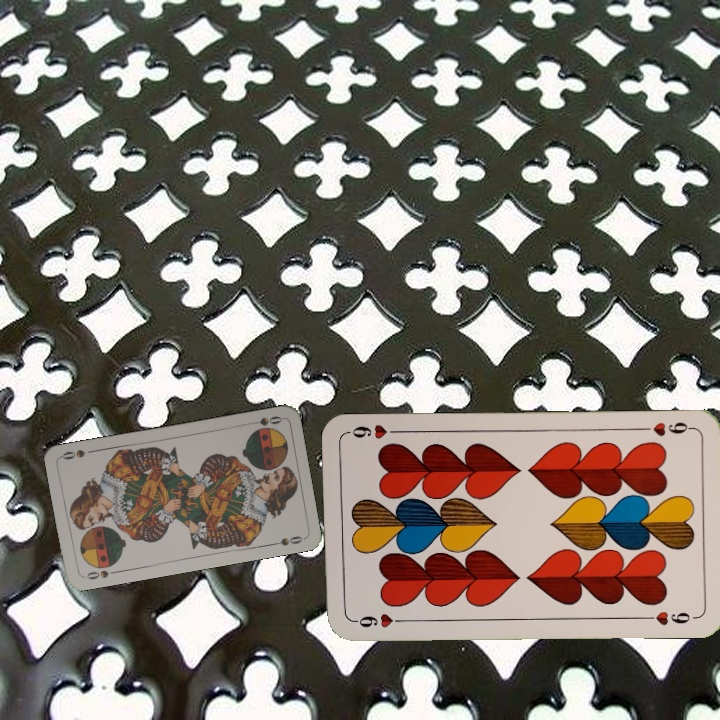H9: (636, 418, 695, 439), (349, 609, 408, 630)
SO: (244, 412, 285, 428), (80, 566, 120, 582)
